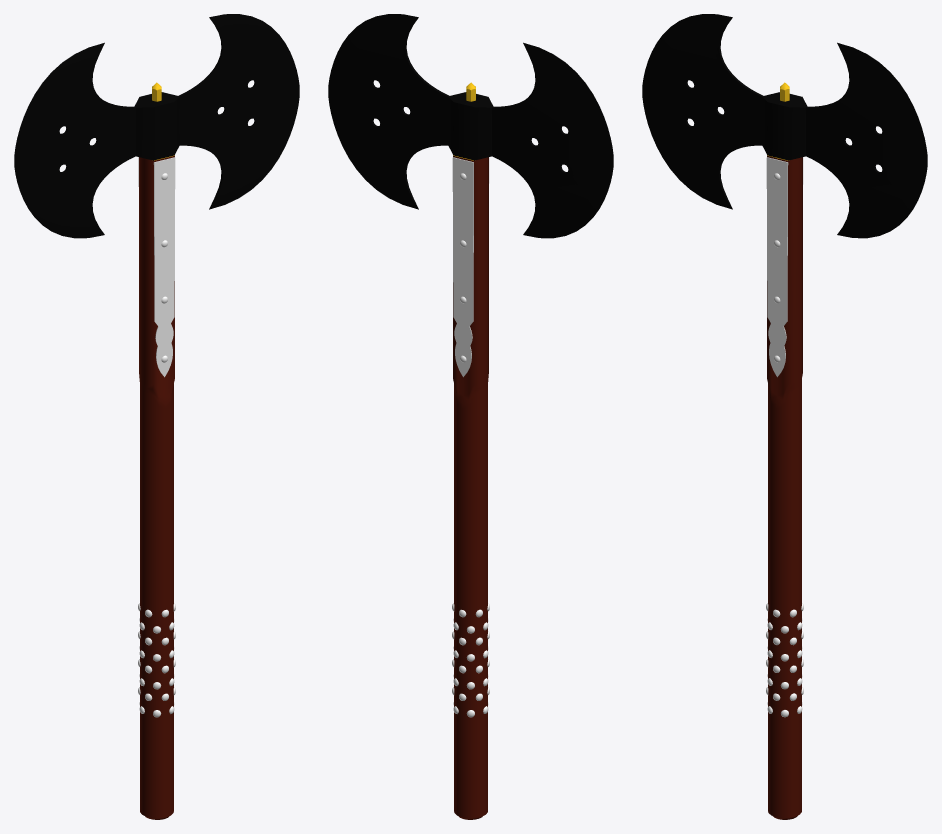
The model's file is Axe_UVW.fbx.
3 renders of one model, left to right at view 1: azimuth 30°, elevation 25°; view 2: azimuth 150°, elevation 25°; view 3: azimuth 330°, elevation 25°, orthographic.
Visible parts, largest first — view 1: AxeHandle; view 2: AxeHandle; view 3: AxeHandle.
Boxes of the visible parts, x1,y1,x2,y2 form: AxeHandle: (14,14,299,819); AxeHandle: (328,14,613,819); AxeHandle: (642,14,927,819).
Size of the model in its own units: 43.95 by 5.08 by 116.
